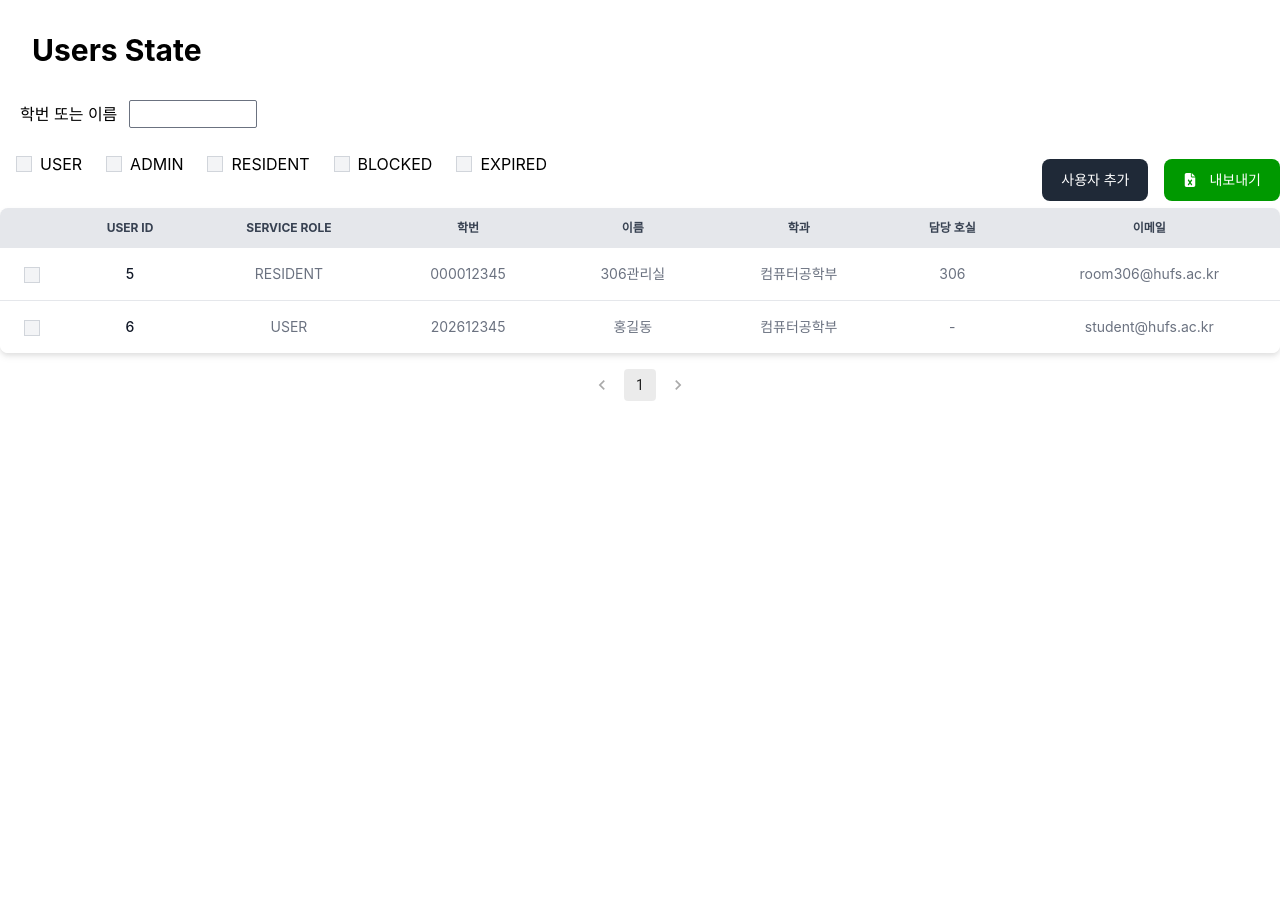
FetchState 담당 호실 › 호실 목록을 못 불러오면 승격이 막다른 길이 되지 않게 원인을 알린다
Click the checkbox in the row of "000012345".
click(32, 275)  # box [24, 267, 40, 283]
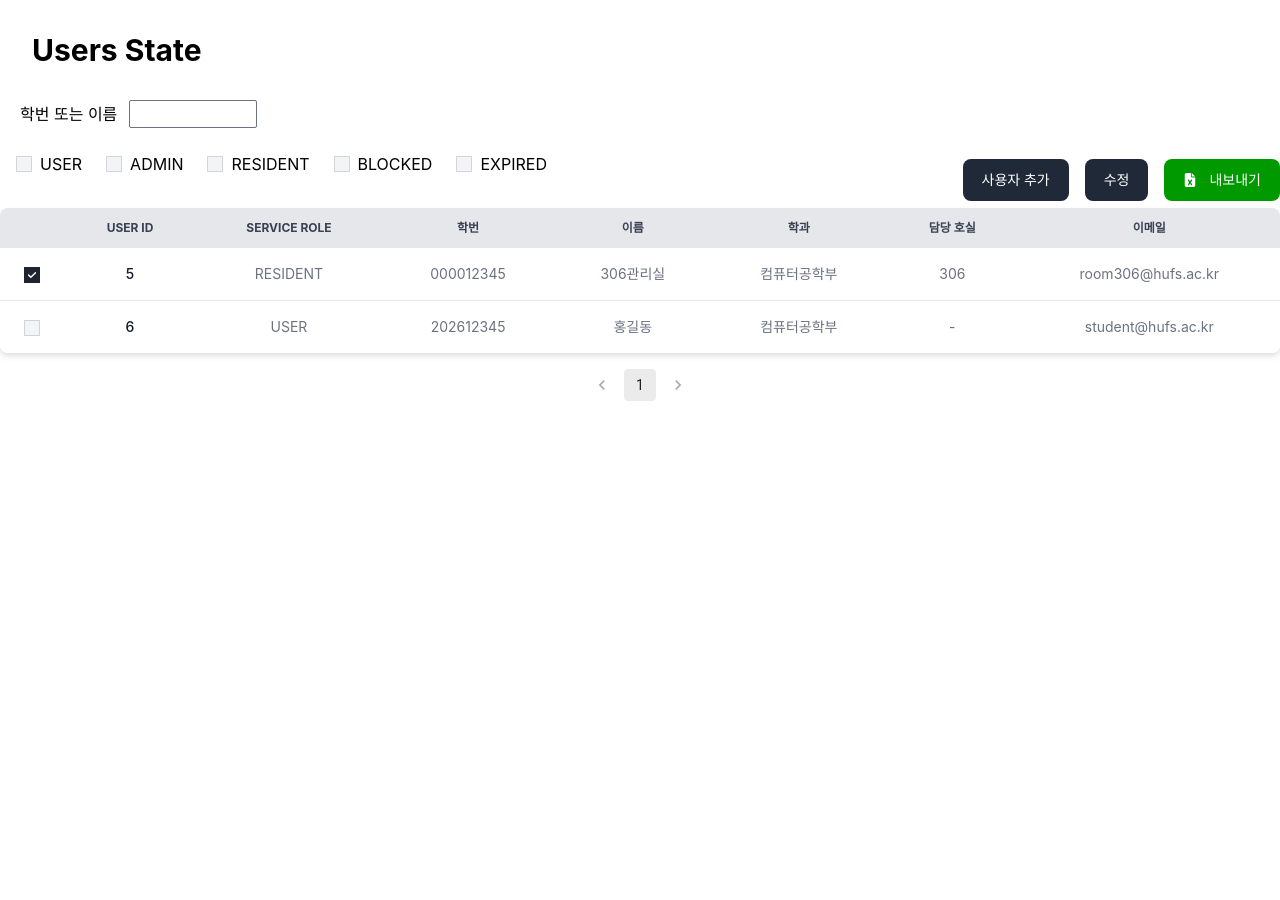
Click the button "수정".
click(1117, 180)  # box [1085, 159, 1148, 201]
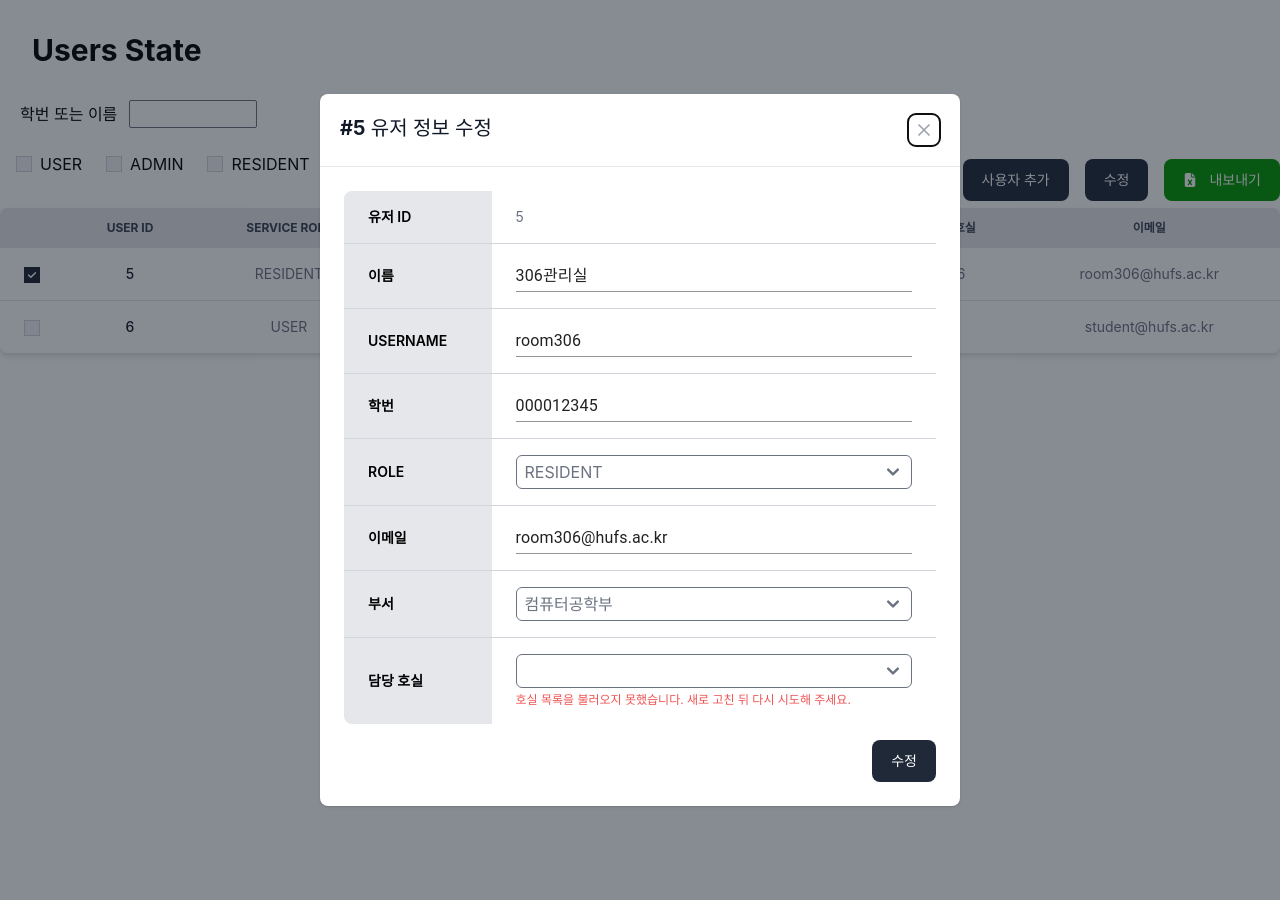
Result: the text "호실 목록을 불러오지 못했습니다. 새로 고친 뒤 다시 시도해 주세요." is shown at [516, 692, 851, 707]
